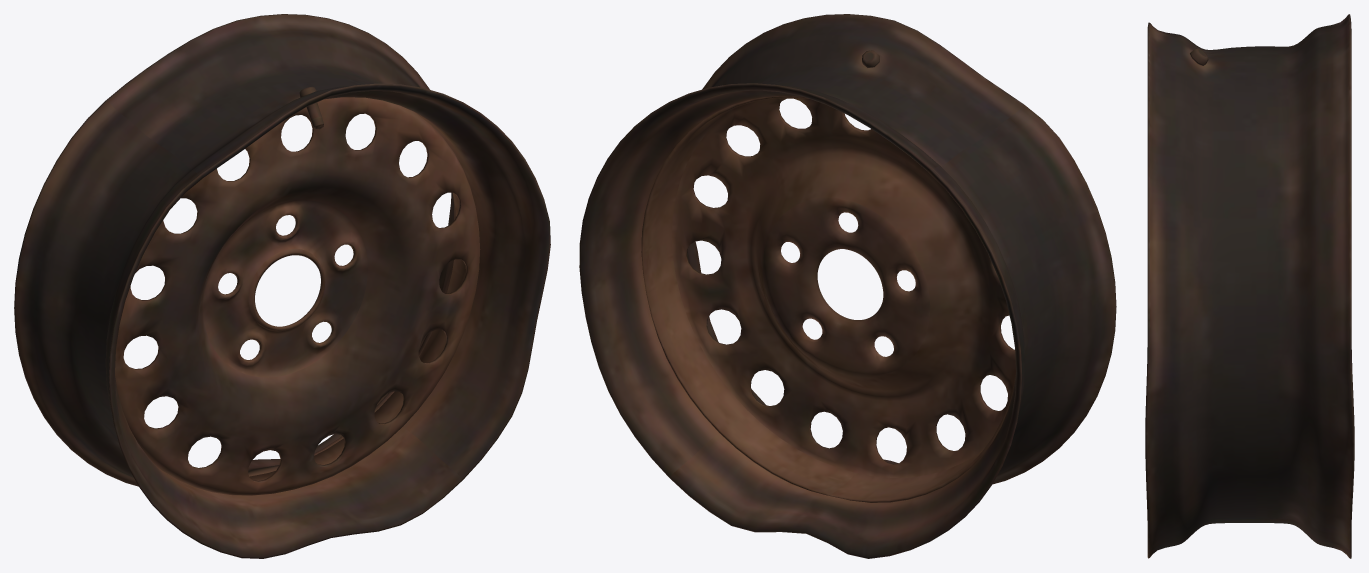
File: rusted_rim.glb
3 views of the same model, side by side, from view 1: azimuth 30°, elevation 25°; view 2: azimuth 150°, elevation 25°; view 3: azimuth 270°, elevation 25° (orthographic). The views are drawn at different scales.
Visible parts, largest first — view 1: rusted_wheel_rim_01; view 2: rusted_wheel_rim_01; view 3: rusted_wheel_rim_01.
Part boxes in pixels (x1,y1,x2,y2): rusted_wheel_rim_01: (14,14,550,558); rusted_wheel_rim_01: (579,14,1116,558); rusted_wheel_rim_01: (1145,14,1354,558).
Size of the model in its own units: 0.4029 by 0.3955 by 0.1541.
Materials: 1 (1 with a texture image).
